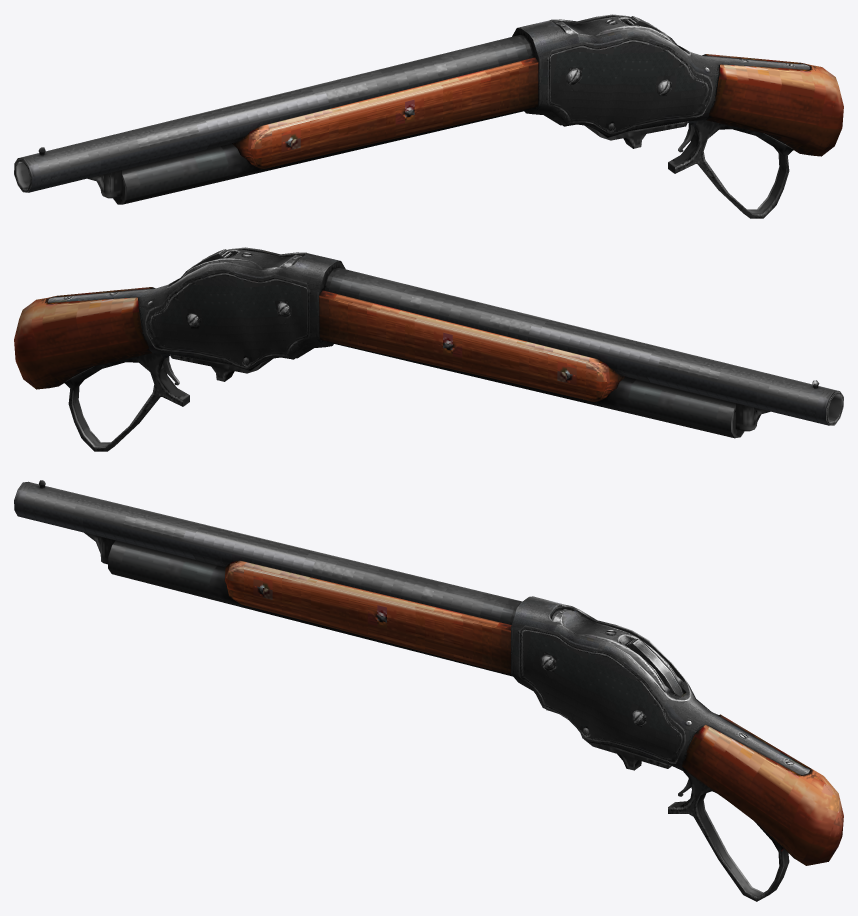
The picture shows the model from 3 angles, top to bottom: view 1: azimuth 30°, elevation 25°; view 2: azimuth 150°, elevation 25°; view 3: azimuth 330°, elevation 25°; orthographic projection.
Visible parts, largest first — view 1: Model; view 2: Model; view 3: Model.
Part boxes in pixels (box(x1,y1,x2,y2)): Model: box(14, 14, 843, 218); Model: box(14, 247, 843, 451); Model: box(14, 480, 843, 901).
Bounding box in the file's own units: 21.48 × 6.11 × 1.37.
Materials: 1 (1 with a texture image).
